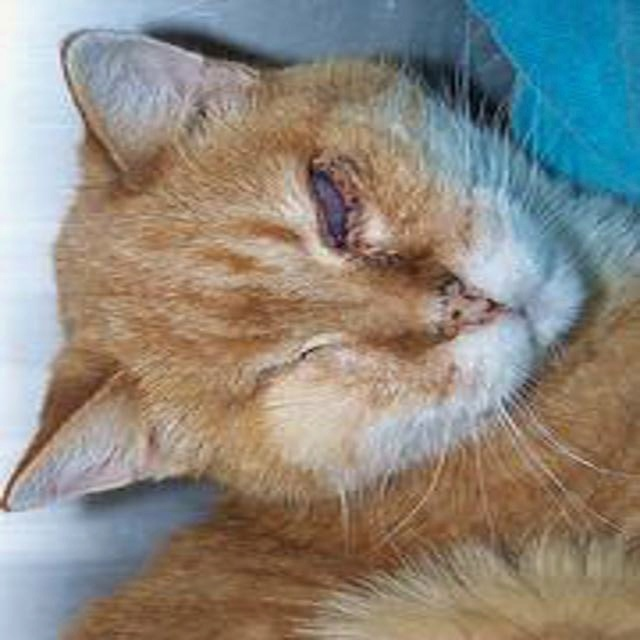eye_infection: (317, 161, 363, 241)
